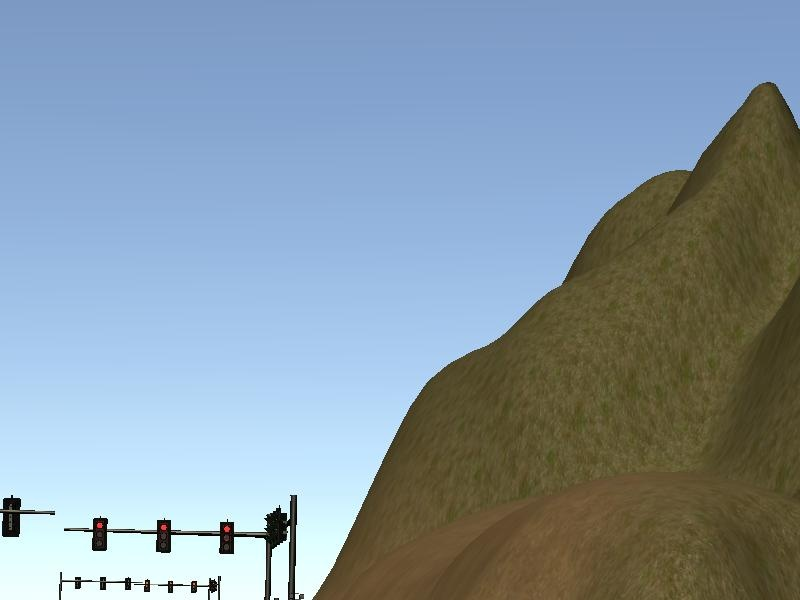red: (152, 515, 176, 557), (88, 516, 110, 554), (216, 518, 237, 555)
